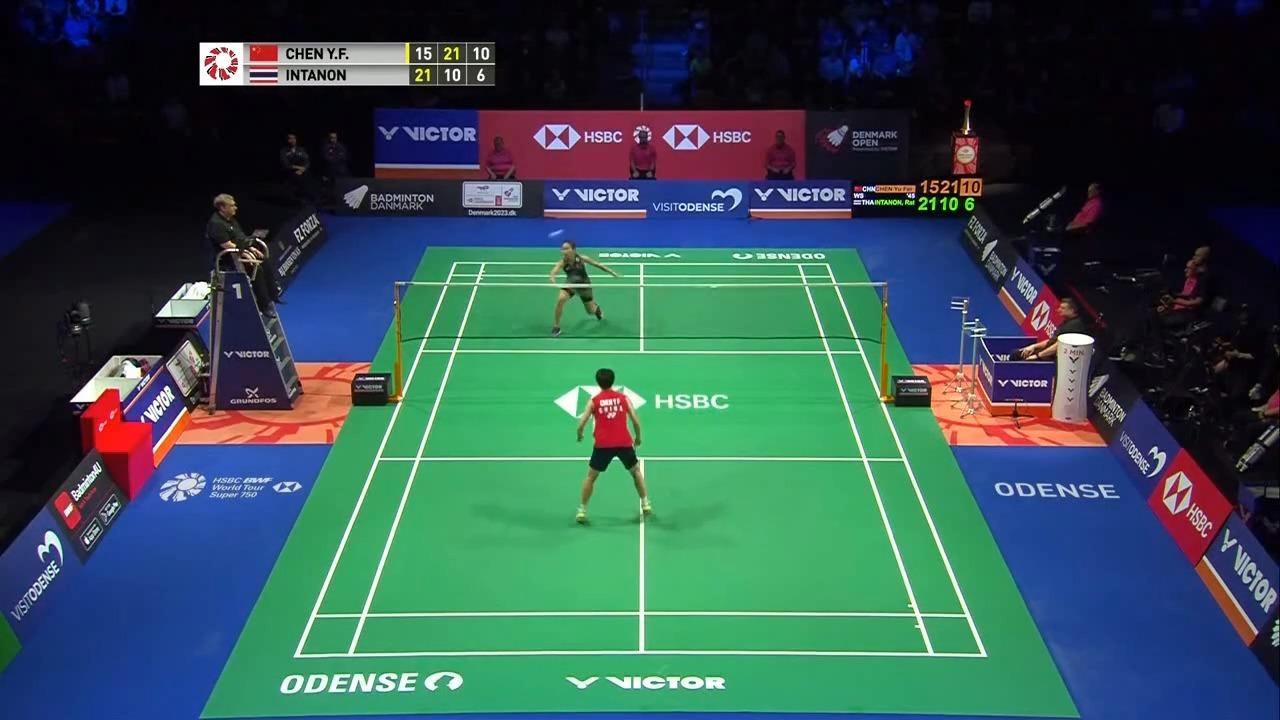shuttle: (543, 224, 566, 241)
